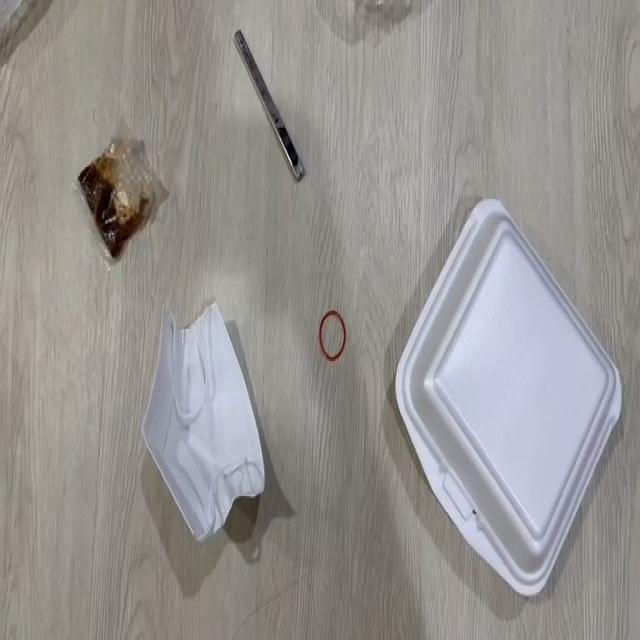Anorganik: (365, 187, 624, 592), (215, 21, 313, 184), (312, 304, 352, 364)
B3: (119, 290, 279, 548), (70, 106, 172, 270)
